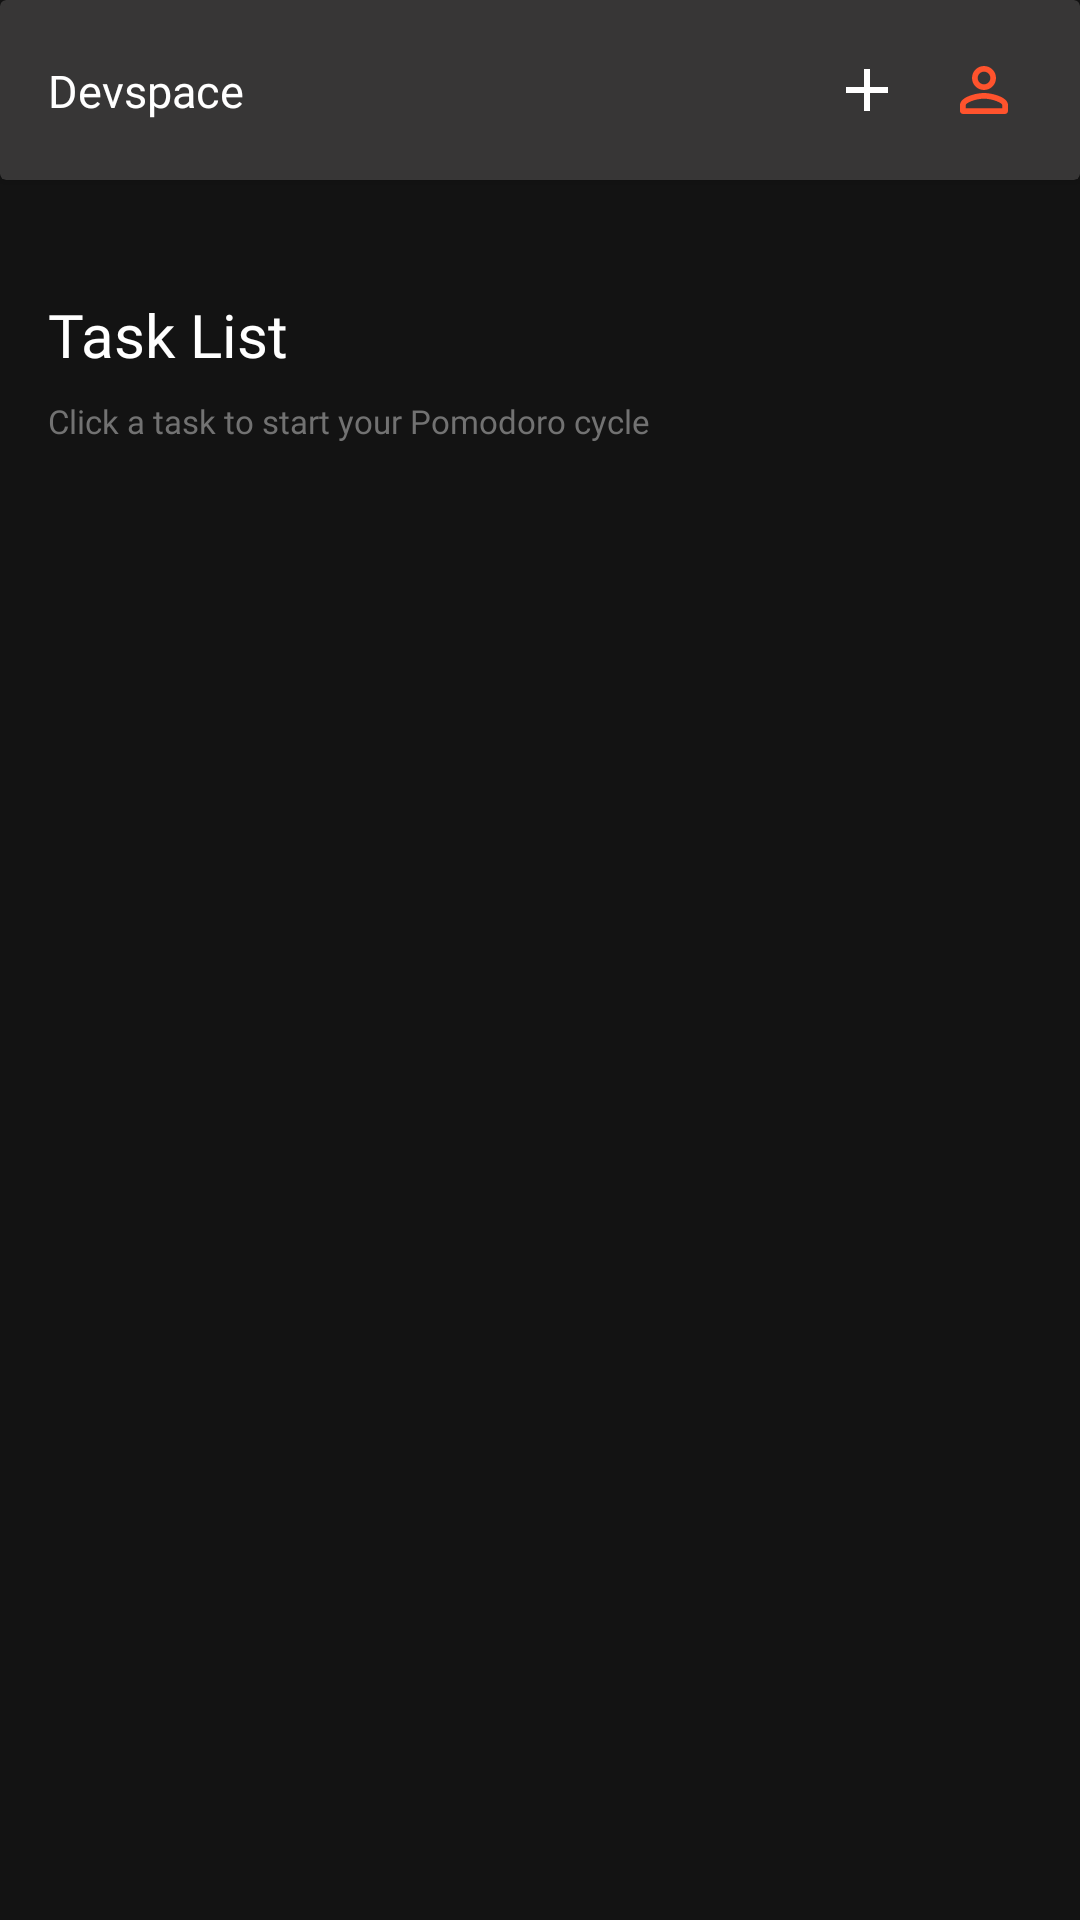

Icons on this 1080 × 1920 Android screen, each with its box as (x1, y1, x2, y2):
add: (846, 69, 888, 111)
person: (960, 66, 1008, 114)
